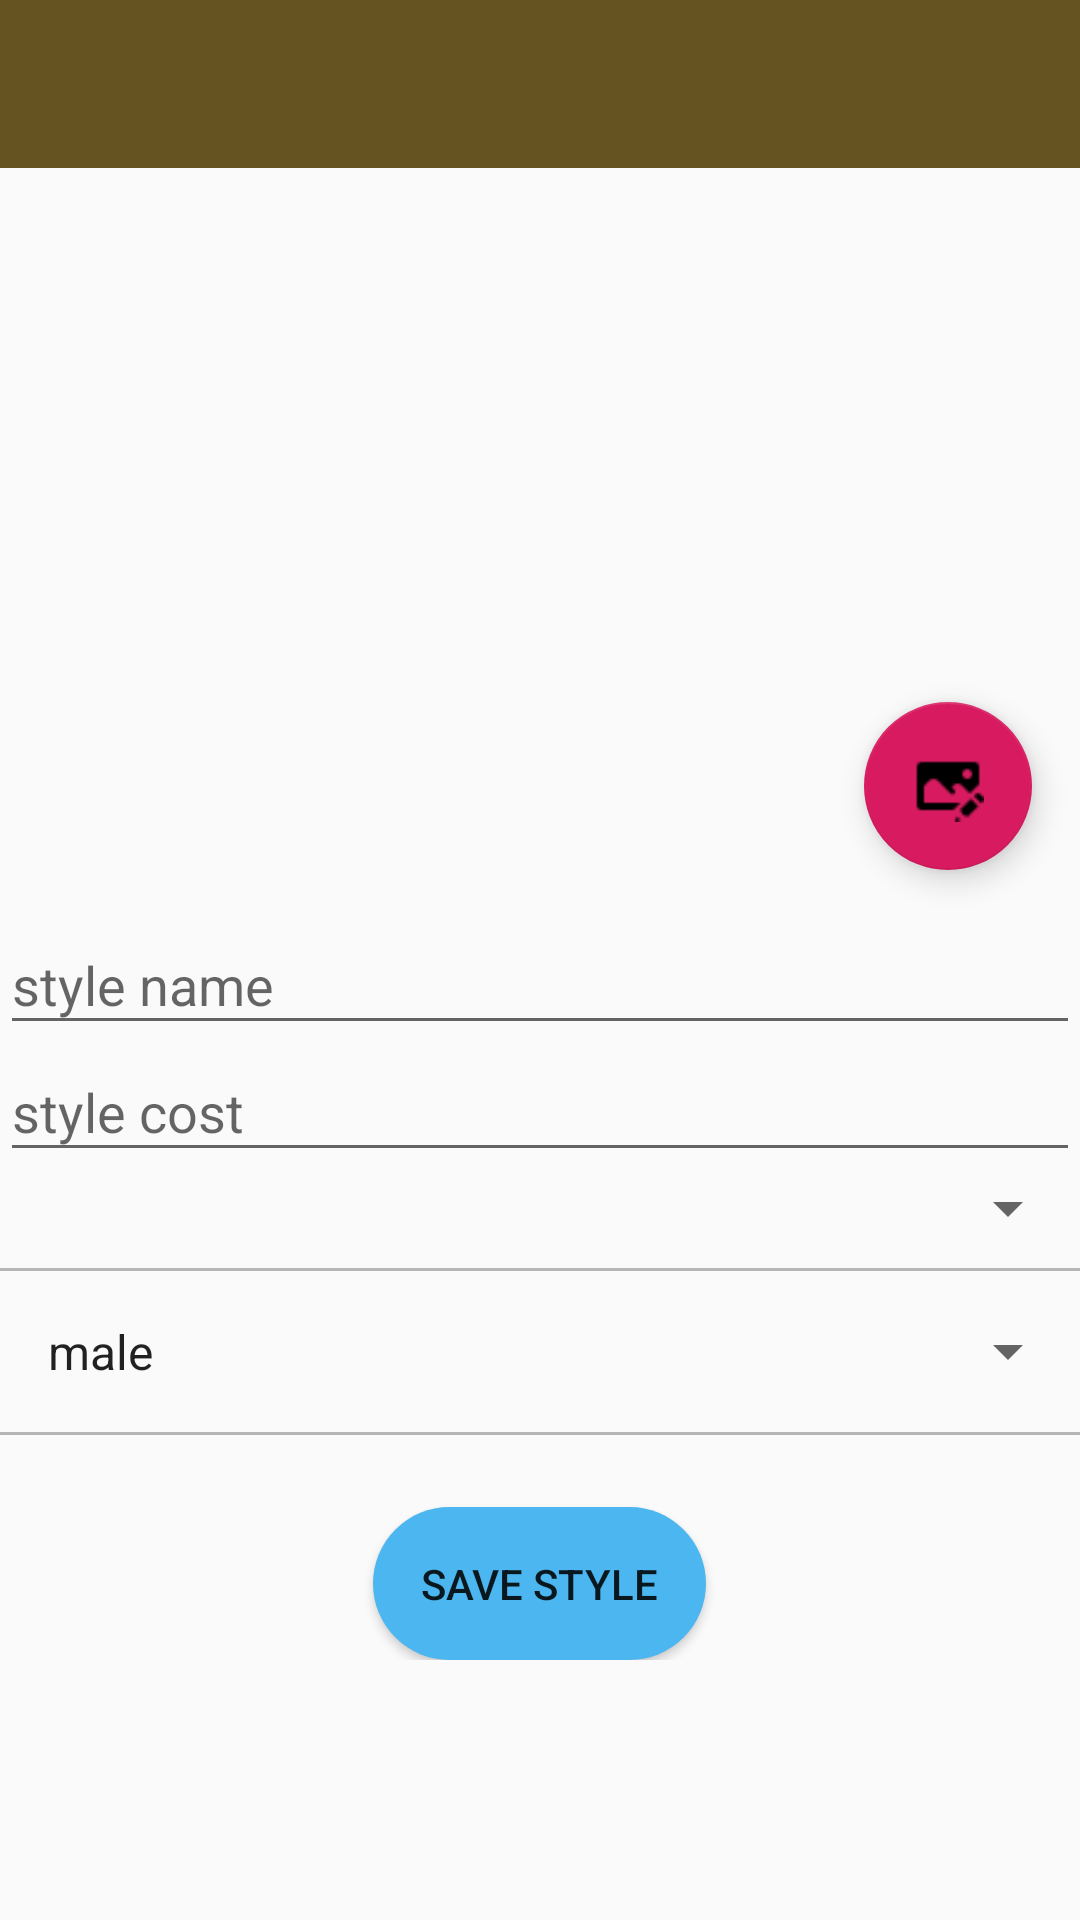

Point at icon controls on the screen. Image size 1080px x 1920px, points as [x,y].
edit profile picture: [948,786]
